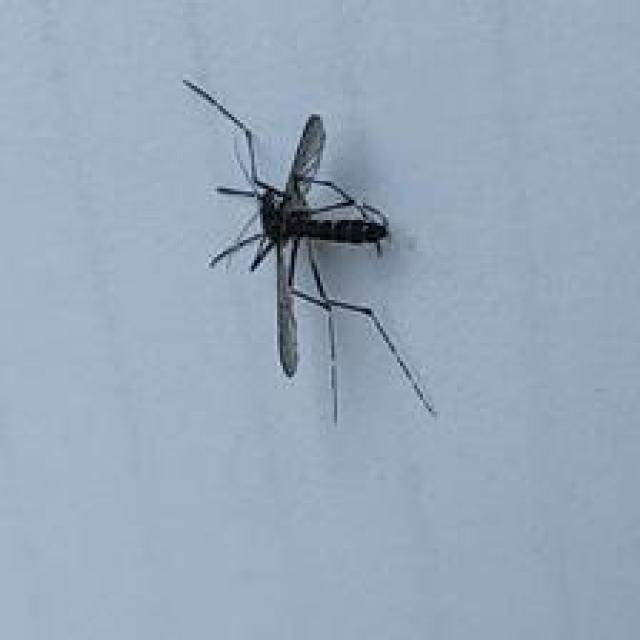Aedes albopictus: (182, 77, 438, 426)
